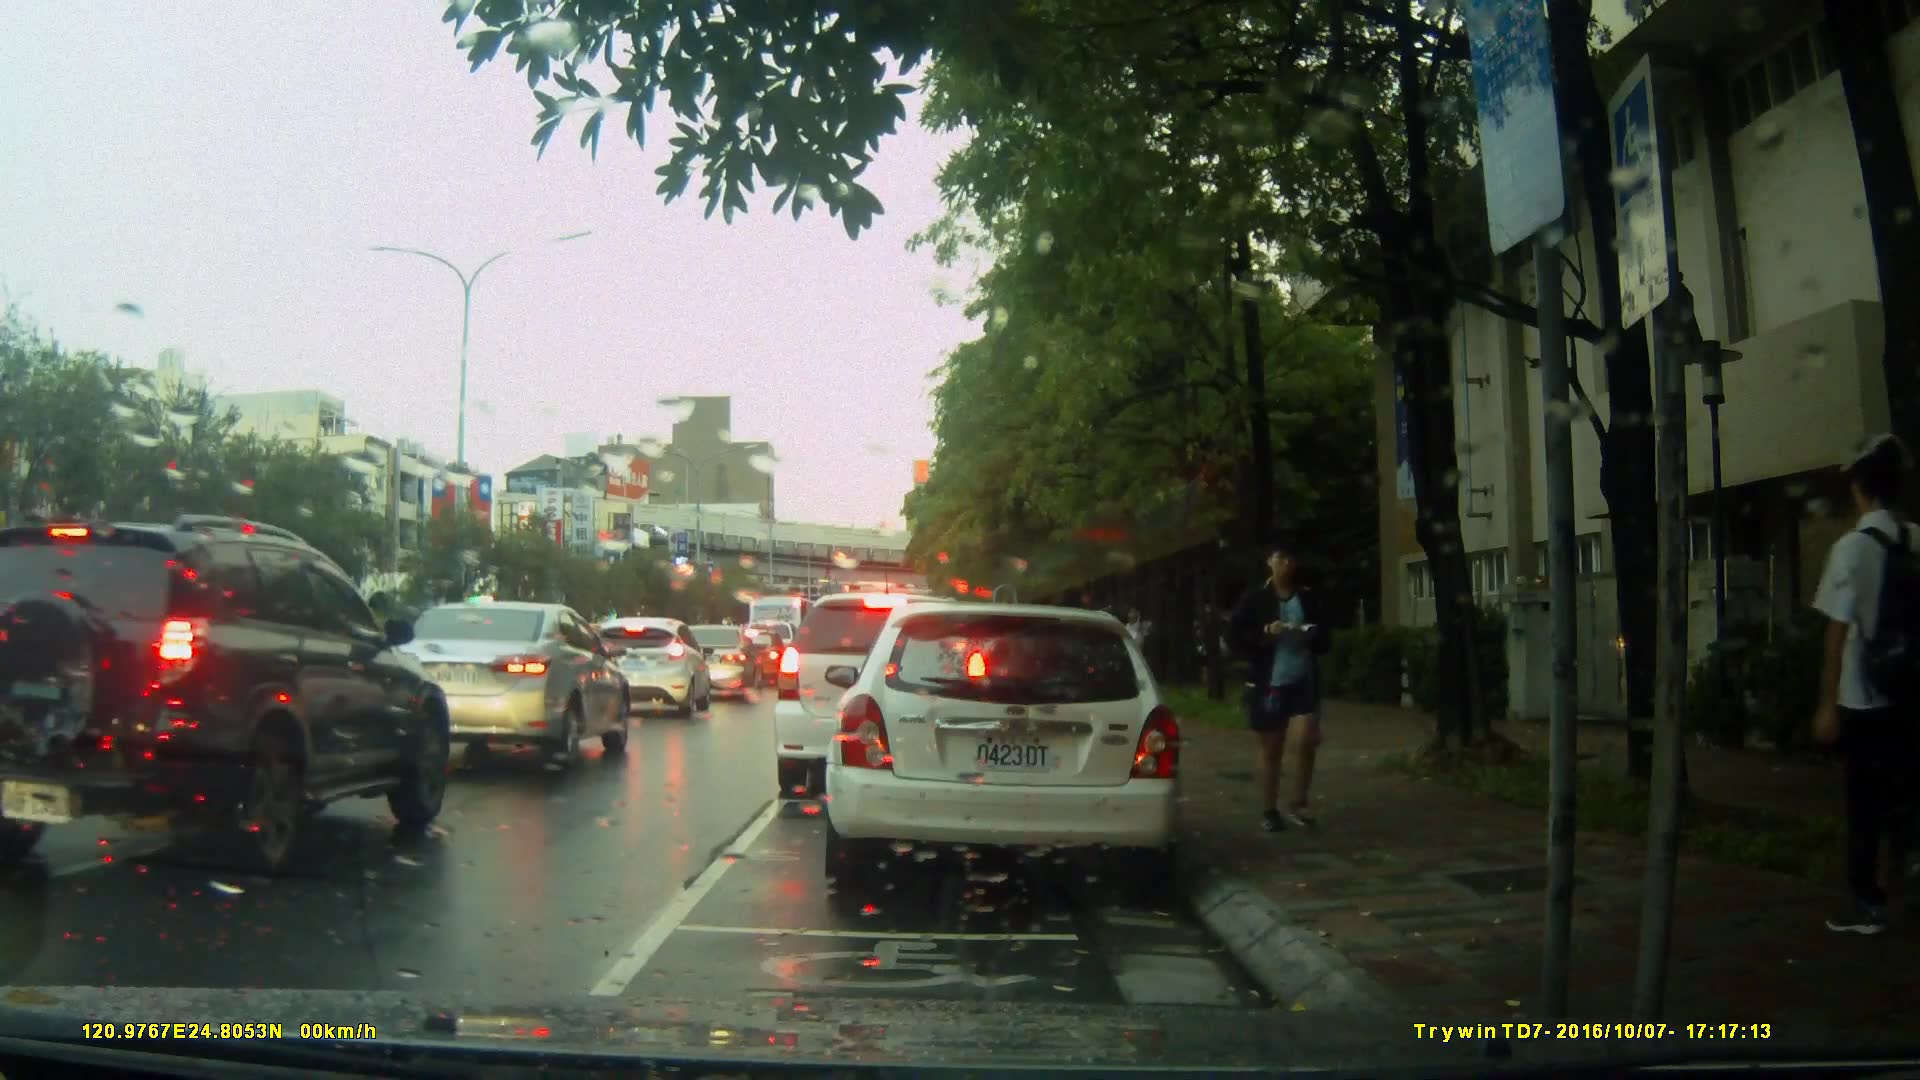pedestrian: (1802, 453, 1912, 950), (1221, 542, 1366, 844), (1115, 588, 1157, 730)
vehicle: (9, 513, 455, 882), (815, 593, 1198, 893), (770, 590, 995, 802), (376, 601, 635, 772), (582, 614, 714, 720), (675, 624, 759, 697)
